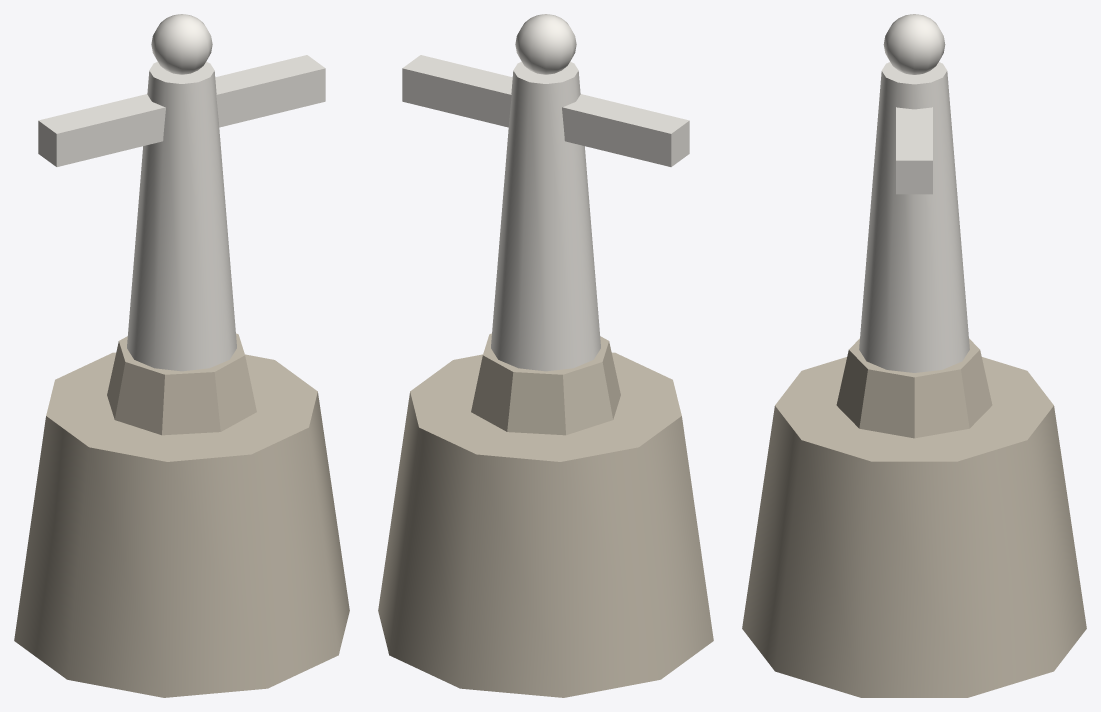
Rendered from cristo_rey.fbx.
3 views of the same model, side by side, from view 1: azimuth 30°, elevation 25°; view 2: azimuth 150°, elevation 25°; view 3: azimuth 270°, elevation 25° (orthographic).
Parts seen in each view (by area): view 1: stone, white, white_02, stone_02, white_03; view 2: stone, white, white_02, stone_02, white_03; view 3: stone, white, stone_02, white_02, white_03.
Part boxes in pixels (left/top/right/bottom): stone: left=14, top=352, right=349, bottom=697; white: left=127, top=61, right=236, bottom=371; white_02: left=38, top=55, right=325, bottom=166; stone_02: left=107, top=333, right=256, bottom=435; white_03: left=151, top=14, right=212, bottom=74; stone: left=378, top=352, right=713, bottom=697; white: left=491, top=61, right=600, bottom=371; white_02: left=402, top=55, right=689, bottom=166; stone_02: left=471, top=333, right=620, bottom=435; white_03: left=515, top=14, right=576, bottom=74; stone: left=742, top=357, right=1086, bottom=697; white: left=859, top=62, right=969, bottom=372; stone_02: left=836, top=338, right=992, bottom=438; white_02: left=896, top=107, right=932, bottom=194; white_03: left=883, top=14, right=945, bottom=74.
Bounding box in the file's own units: 7.99 × 16.45 × 8.4.
